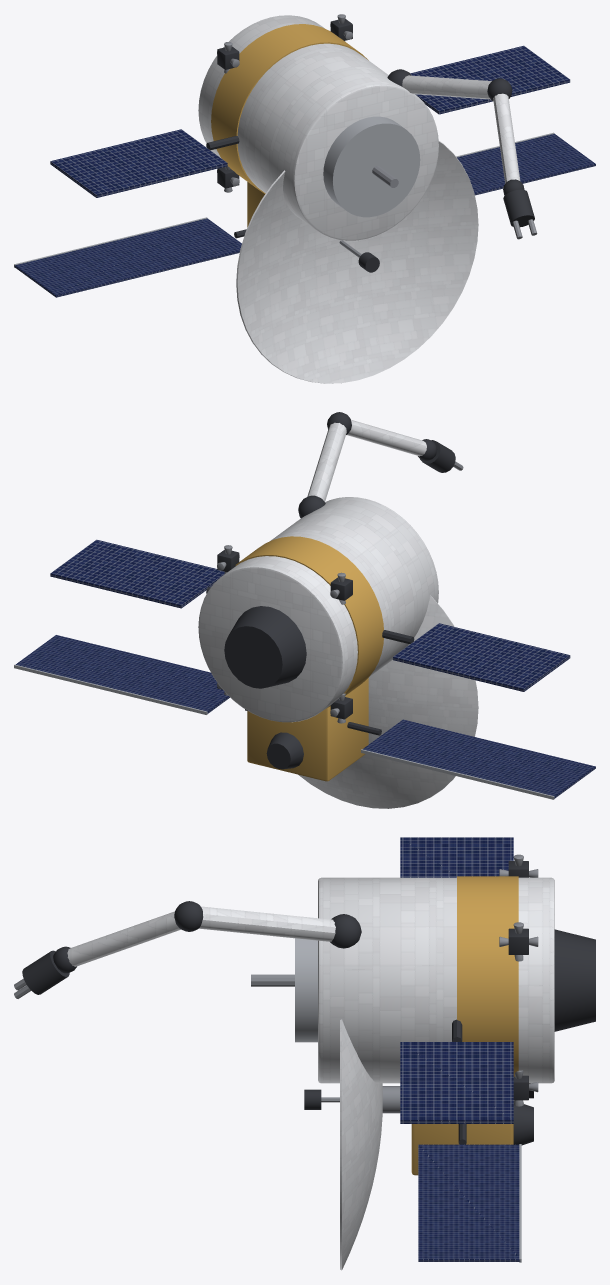
Rendered from companions.glb.
The picture shows the model from 3 angles, top to bottom: view 1: azimuth 30°, elevation 25°; view 2: azimuth 150°, elevation 25°; view 3: azimuth 270°, elevation 25°; orthographic projection. The views are drawn at different scales.
Parts seen in each view (by area): view 1: craft1, craft0; view 2: craft1, craft0; view 3: craft1, craft0.
Part boxes in pixels (x1,y1,x2,y2): craft1: [50, 14, 570, 240]; craft0: [14, 132, 595, 383]; craft1: [50, 412, 570, 723]; craft0: [14, 595, 595, 808]; craft1: [14, 837, 595, 1123]; craft0: [304, 1019, 533, 1270].
Size of the model in its own units: 1.93 by 1.12 by 1.47.
13 materials, 4 textured.
